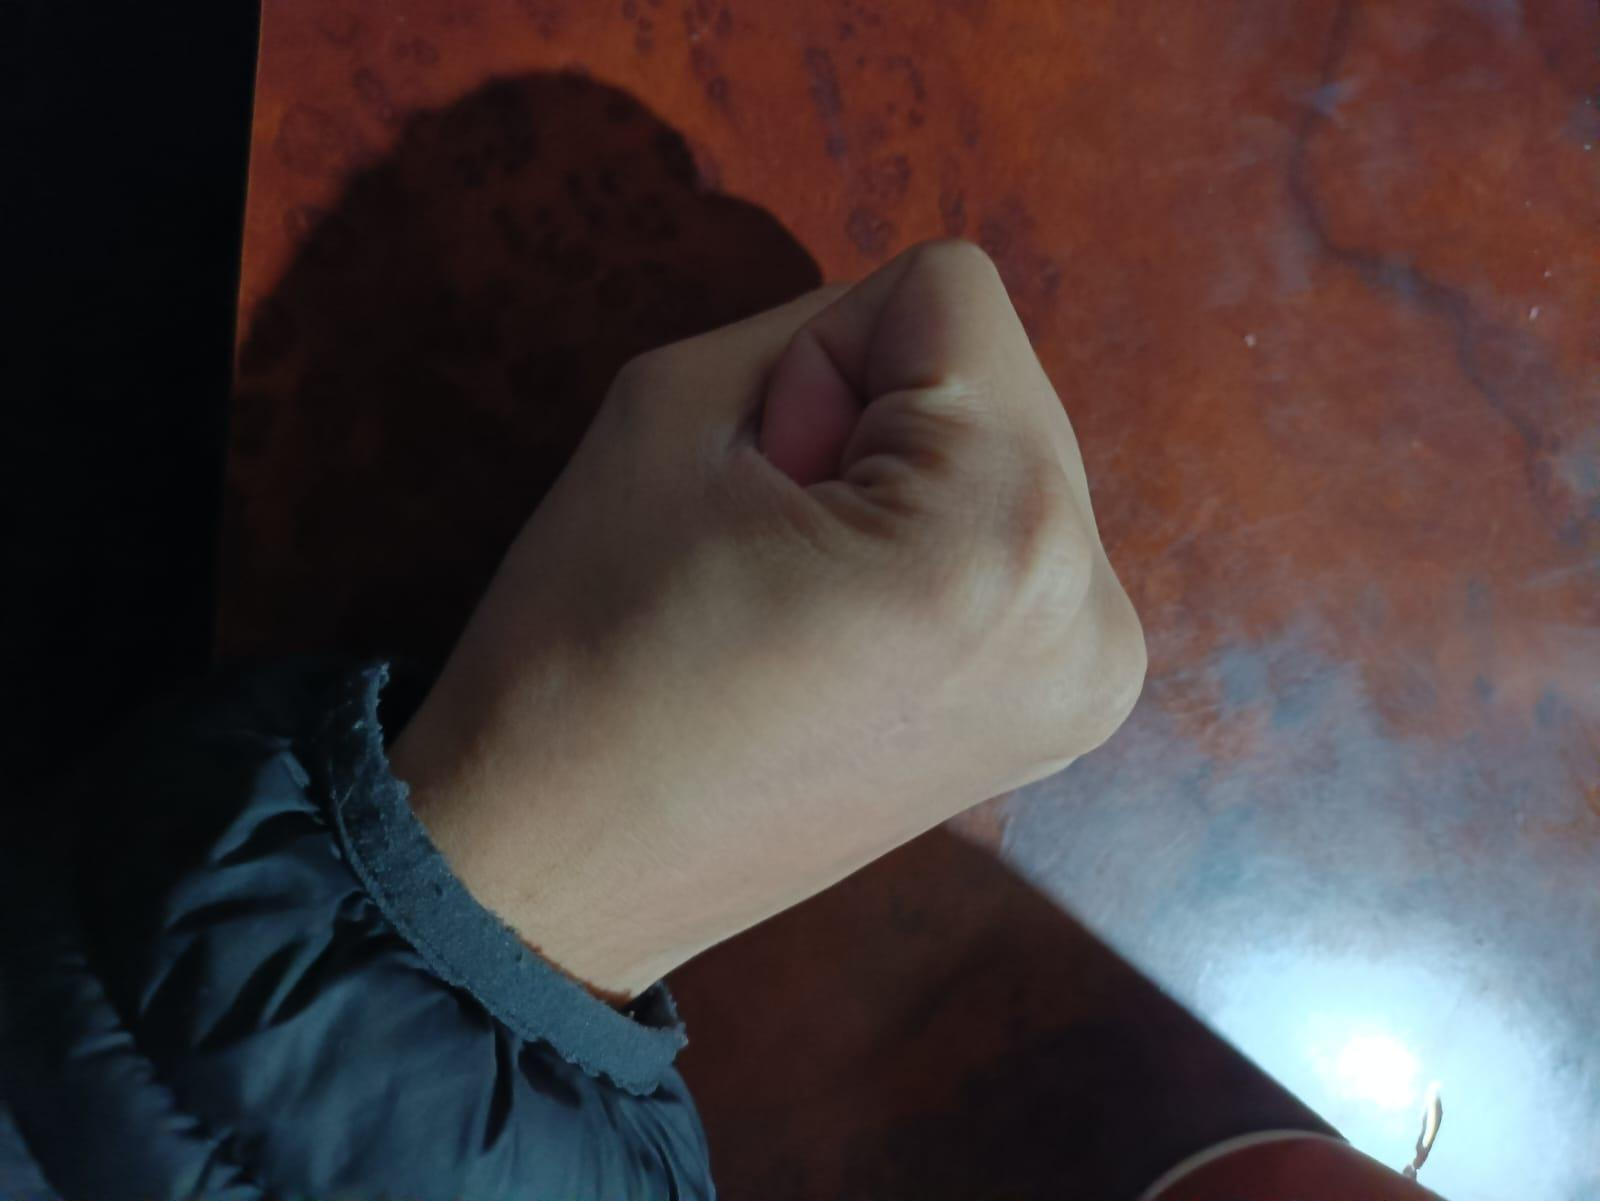Stone: (112, 180, 1182, 1154)
